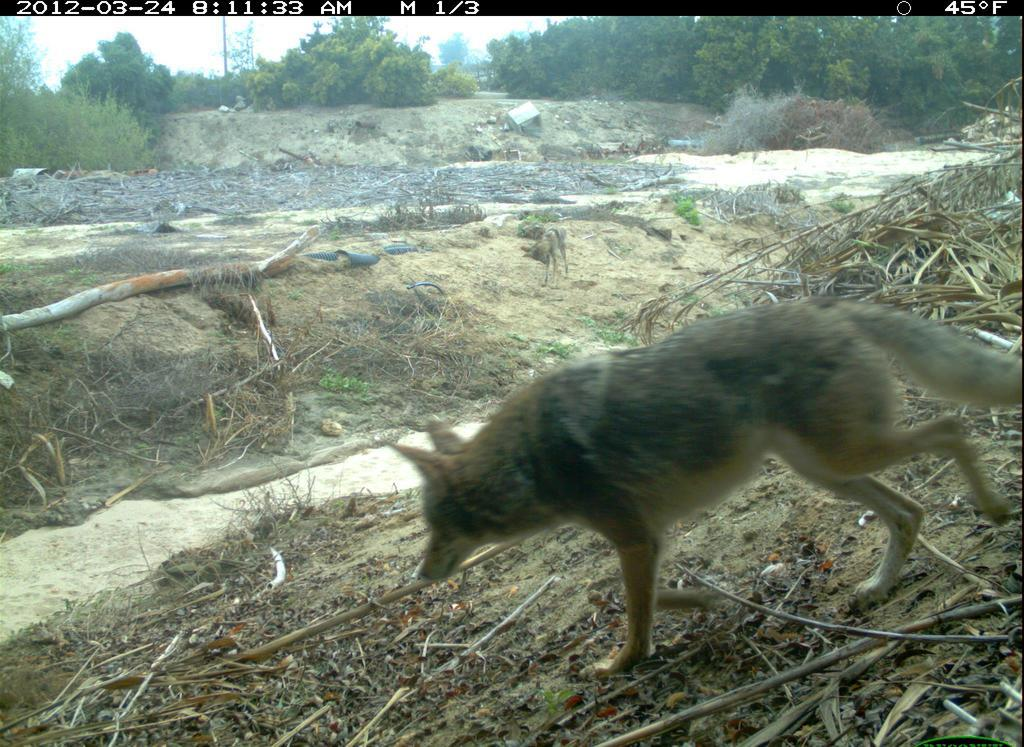coyote: (386, 287, 1023, 679)
